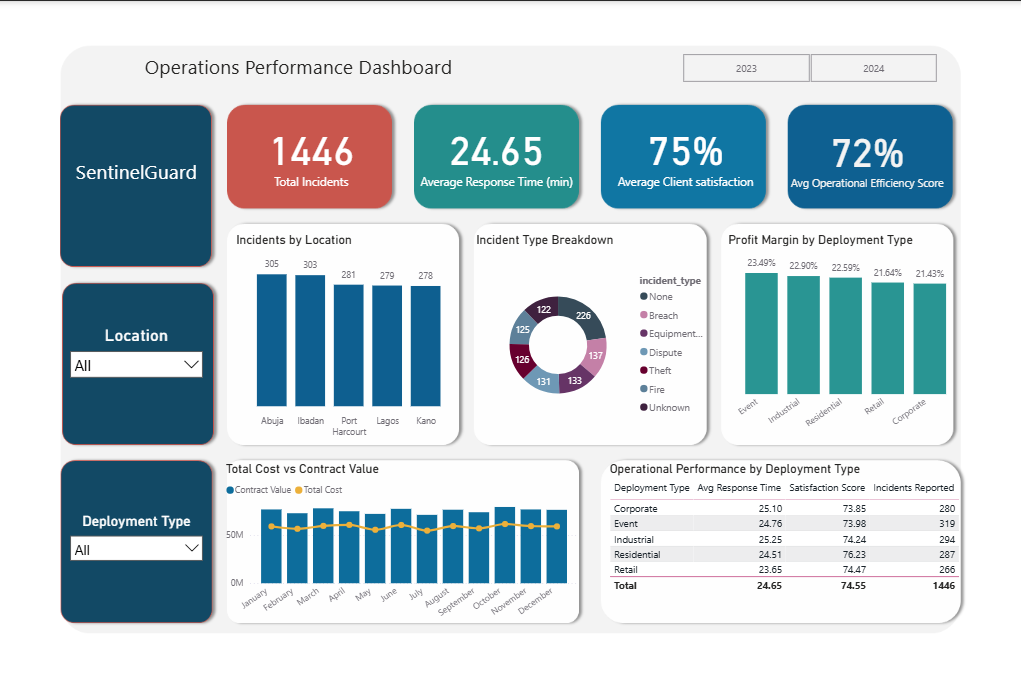

What the dashboard file says about the page in this screenshot:
{"tool":"powerbi","page":{"name":"Page 1","canvas":[1400,920],"ordinal":0},"visuals":[{"type":"card","fields":{"Values":["Sum(operations_data_cleaned.incidents_reported)"]},"box":[303.8,117.8,243.9,184],"z":0},{"type":"card","fields":{"Values":["Avg(operations_data_cleaned.response_time_minutes)"]},"box":[547.7,117.8,262.5,184],"z":1},{"type":"card","fields":{"Values":["Avg(operations_data_cleaned.Client satisfaction %)"]},"box":[810.2,117.8,258.4,184],"z":2},{"type":"clusteredColumnChart","fields":{"Y":["Sum(operations_data_cleaned.incidents_reported)"],"Category":["operations_data_cleaned.location"]},"box":[318.3,316.2,312.1,289.4],"z":4},{"type":"donutChart","title":"Incident Type Breakdown","fields":{"Y":["CountNonNull(operations_data_cleaned.incident_type)"],"Category":["operations_data_cleaned.incident_type"]},"box":[647,316.2,330.7,289.4],"z":5},{"type":"clusteredColumnChart","title":"Profit Margin by Deployment Type","fields":{"Category":["operations_data_cleaned.deployment_type"],"Y":["Avg(operations_data_cleaned.profit margin %)"]},"box":[992.5,316.4,332.9,289.7],"z":7},{"type":"lineClusteredColumnComboChart","title":"Total Cost vs Contract Value ","fields":{"Y":["Sum(operations_data_cleaned.contract_value)"],"Y2":["Sum(operations_data_cleaned.total_cost)"],"Category":["operations_data_cleaned.Month Name"]},"box":[303.8,630.4,491.9,229.4],"z":8},{"type":"slicer","title":"Location","fields":{"Values":["operations_data_cleaned.location"]},"box":[86.3,443.8,201.4,104.8],"z":9},{"type":"slicer","title":"Deployment Type","fields":{"Values":["operations_data_cleaned.deployment_type"]},"box":[86.3,700.7,201.4,117.1],"z":10},{"type":"slicer","fields":{"Values":["operations_data_cleaned.Year"]},"box":[909.5,66.1,396.9,51.7],"z":11},{"type":"tableEx","title":"Operational Performance by Deployment Type","fields":{"Values":["operations_data_cleaned.deployment_type","Avg(operations_data_cleaned.response_time_minutes)","Avg(operations_data_cleaned.client_satisfaction_score)","Sum(operations_data_cleaned.incidents_reported)"]},"box":[830.1,630.8,495.2,228.1],"z":12},{"type":"textbox","box":[86.3,209.6,201.4,47.3],"z":13},{"type":"textbox","box":[86.3,65.8,645.2,65.8],"z":14},{"type":"card","fields":{"Values":["Avg(operations_data_cleaned.efficeincy score %)"]},"box":[1068.5,135.6,238.4,150],"z":15}]}

Visuals, with their boxes in screenshot pixels (x1, y1, x2, y2), scaled from the page's 1400x920 canvas onto the 1021x673 screenshot:
card - Sum(operations_data_cleaned.incidents_reported): (222,86,399,221)
card - Avg(operations_data_cleaned.response_time_minutes): (399,86,591,221)
card - Avg(operations_data_cleaned.Client satisfaction %): (591,86,779,221)
clusteredColumnChart - Sum(operations_data_cleaned.incidents_reported) x operations_data_cleaned.location: (232,231,460,443)
"Incident Type Breakdown" donutChart: (472,231,713,443)
"Profit Margin by Deployment Type" clusteredColumnChart: (724,231,967,443)
"Total Cost vs Contract Value " lineClusteredColumnComboChart: (222,461,580,629)
"Location" slicer: (63,325,210,401)
"Deployment Type" slicer: (63,513,210,598)
slicer - operations_data_cleaned.Year: (663,48,953,86)
"Operational Performance by Deployment Type" tableEx: (605,461,967,628)
textbox: (63,153,210,188)
textbox: (63,48,533,96)
card - Avg(operations_data_cleaned.efficeincy score %): (779,99,953,209)
